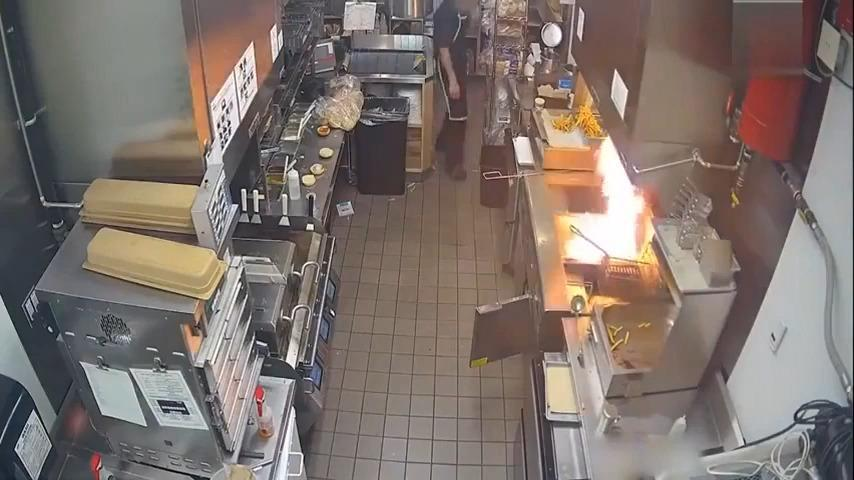fire: (568, 129, 652, 269)
